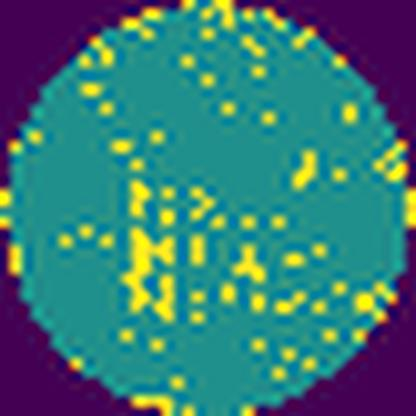Loc: (128, 221, 177, 325), (132, 176, 150, 219)
